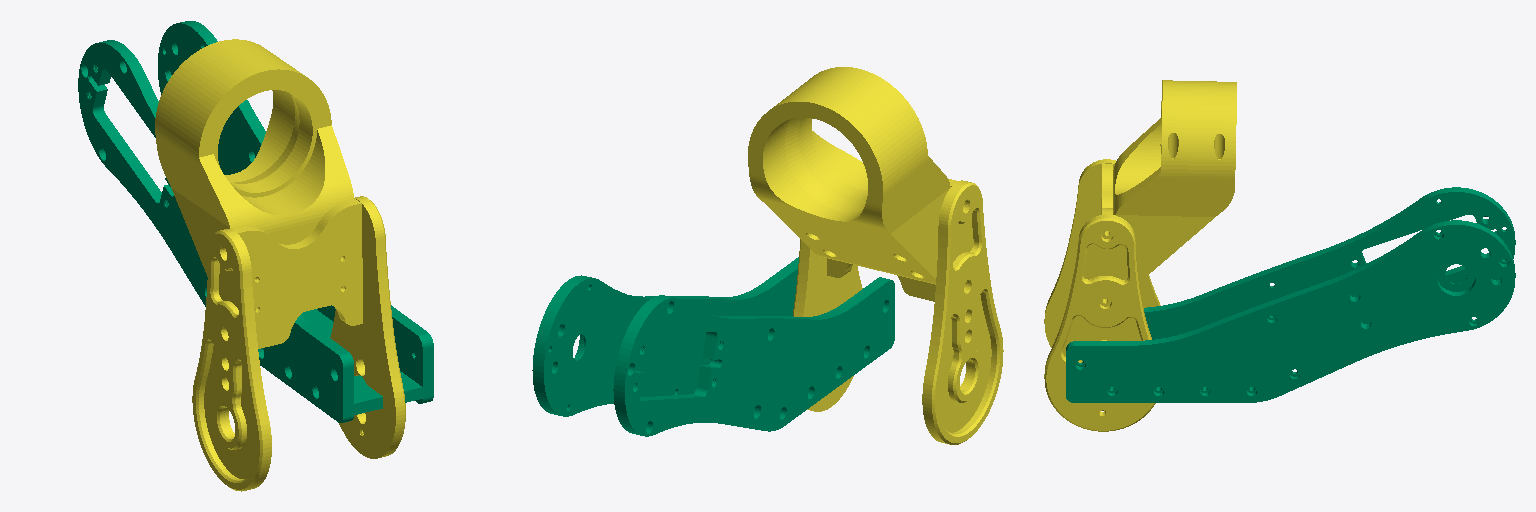
robot.urdf — arm:
<?xml version="1.0" encoding="utf-8"?>
<!-- =================================================================================== -->
<!-- |    This document was autogenerated by xacro from arm.urdf.xacro                 | -->
<!-- |    EDITING THIS FILE BY HAND IS NOT RECOMMENDED                                 | -->
<!-- =================================================================================== -->
<robot name="arm">
  <material name="black">
    <color rgba="0.0 0.0 0.0 1.0"/>
  </material>
  <material name="blue">
    <color rgba="0.0 0.0 0.8 1.0"/>
  </material>
  <material name="green">
    <color rgba="0.0 0.8 0.0 1.0"/>
  </material>
  <material name="grey">
    <color rgba="0.2 0.2 0.2 1.0"/>
  </material>
  <material name="orange">
    <color rgba="1.0 0.423529411765 0.0392156862745 1.0"/>
  </material>
  <material name="brown">
    <color rgba="0.870588235294 0.811764705882 0.764705882353 1.0"/>
  </material>
  <material name="red">
    <color rgba="0.8 0.0 0.0 1.0"/>
  </material>
  <material name="white">
    <color rgba="1.0 1.0 1.0 1.0"/>
  </material>
  <!--Link-->
  <link name="world"/>
  <link name="base_link">
    <visual>
      <geometry>
        <mesh filename="package://nebulizador_description/meshes/arm/visual/base_link.stl"/>
      </geometry>
    </visual>
    <!--collision>
        <geometry>
          <mesh filename="package://nebulizador_description/meshes/arm/collision/${name}.dae"/>
        </geometry>
      </collision-->
    <inertial>
      <mass value="0.385"/>
      <inertia ixx="0.012388" ixy="4.9304e-06" ixz="-0.00013633" iyy="0.015605" iyz="-1.7128e-05" izz="0.013469"/>
    </inertial>
  </link>
  <link name="link_1">
    <visual>
      <geometry>
        <mesh filename="package://nebulizador_description/meshes/arm/visual/link_1.stl"/>
      </geometry>
    </visual>
    <!--collision>
        <geometry>
          <mesh filename="package://nebulizador_description/meshes/arm/collision/${name}.dae"/>
        </geometry>
      </collision-->
    <inertial>
      <mass value="0.385"/>
      <inertia ixx="0.022235" ixy="-6.2582e-05" ixz="-0.0017584" iyy="0.015421" iyz="-0.0002643" izz="0.015075"/>
    </inertial>
  </link>
  <link name="link_2">
    <visual>
      <geometry>
        <mesh filename="package://nebulizador_description/meshes/arm/visual/link_2.stl"/>
      </geometry>
    </visual>
    <!--collision>
        <geometry>
          <mesh filename="package://nebulizador_description/meshes/arm/collision/${name}.dae"/>
        </geometry>
      </collision-->
    <inertial>
      <mass value="0.348"/>
      <inertia ixx="0.03751" ixy="6.5336e-05" ixz="0.00056744" iyy="0.030168" iyz="-0.00040066" izz="0.014053"/>
    </inertial>
  </link>
  <!-- Joint -->
  <joint name="world" type="fixed">
    <parent link="world"/>
    <child link="base_link"/>
    <origin rpy="0.0 0.0 0.0" xyz="0.0 0.0 0.0"/>
  </joint>
  <joint name="J1" type="revolute">
    <origin rpy="0 0 0" xyz="0 0 0.017"/>
    <parent link="base_link"/>
    <child link="link_1"/>
    <axis xyz="0 0 1"/>
    <dynamics damping="0.7" friction="0.7"/>
    <limit effort="30.0" lower="-1.5708" upper="1.5708" velocity="5.236"/>
  </joint>
  <joint name="J2" type="revolute">
    <origin rpy="0 0 0" xyz="-0.00838 0.19 0.06964"/>
    <parent link="link_1"/>
    <child link="link_2"/>
    <axis xyz="0 1 0"/>
    <dynamics damping="0.7" friction="0.7"/>
    <limit effort="30.0" lower="-0.7854" upper="0.7854" velocity="5.236"/>
  </joint>
  <transmission name="transmission_1">
    <type>transmission_interface/SimpleTransmission</type>
    <joint name="J1">
      <hardwareInterface>PositionJointInterface</hardwareInterface>
    </joint>
    <actuator name="motor_1">
      <hardwareInterface>PositionJointInterface</hardwareInterface>
      <mechanicalReduction>1</mechanicalReduction>
    </actuator>
  </transmission>
  <transmission name="transmission_2">
    <type>transmission_interface/SimpleTransmission</type>
    <joint name="J2">
      <hardwareInterface>PositionJointInterface</hardwareInterface>
    </joint>
    <actuator name="motor_2">
      <hardwareInterface>PositionJointInterface</hardwareInterface>
      <mechanicalReduction>1</mechanicalReduction>
    </actuator>
  </transmission>
  <!-- gazebo -->
  <gazebo>
    <plugin filename="libgazebo_ros_control.so" name="gazebo_ros_control">
      <robotNamespace>/arm</robotNamespace>
      <robotSimType>gazebo_ros_control/DefaultRobotHWSim</robotSimType>
    </plugin>
  </gazebo>
  <gazebo reference="base_link">
    <mu1>0.2</mu1>
    <mu2>0.2</mu2>
    <selfCollide>true</selfCollide>
    <!--     <turnGravityOff>true</turnGravityOff> -->
  </gazebo>
  <gazebo reference="link_1">
    <mu1>0.2</mu1>
    <mu2>0.2</mu2>
    <selfCollide>true</selfCollide>
    <!--     <turnGravityOff>true</turnGravityOff> -->
  </gazebo>
  <gazebo reference="link_2">
    <mu1>0.2</mu1>
    <mu2>0.2</mu2>
    <selfCollide>true</selfCollide>
    <!--     <turnGravityOff>true</turnGravityOff> -->
  </gazebo>
</robot>

--- Render facts (derived) ---
3 views of the same robot in one strip: view 1: azimuth 30°, elevation 25°; view 2: azimuth 150°, elevation 25°; view 3: azimuth 270°, elevation 25° (orthographic).
Robot: arm — 4 links, 3 joints (2 revolute, 1 fixed); root link world; default pose: every joint at zero.
Visible links, largest first — view 1: link_2, link_1; view 2: link_2, link_1; view 3: link_1, link_2.
Boxes of the visible links, x1,y1,x2,y2 form: link_2: (155,39,405,491); link_1: (78,21,433,422); link_2: (748,67,1003,444); link_1: (532,257,894,436); link_1: (1066,187,1515,402); link_2: (1044,80,1236,431).
Size in the robot's own frame: 97.71 by 253 by 187 metres.
Meshes: 3 distinct files referenced, 2 mesh visuals loaded (2 binary STL); not drawn: 1 (reference not matched to a file when rendering).